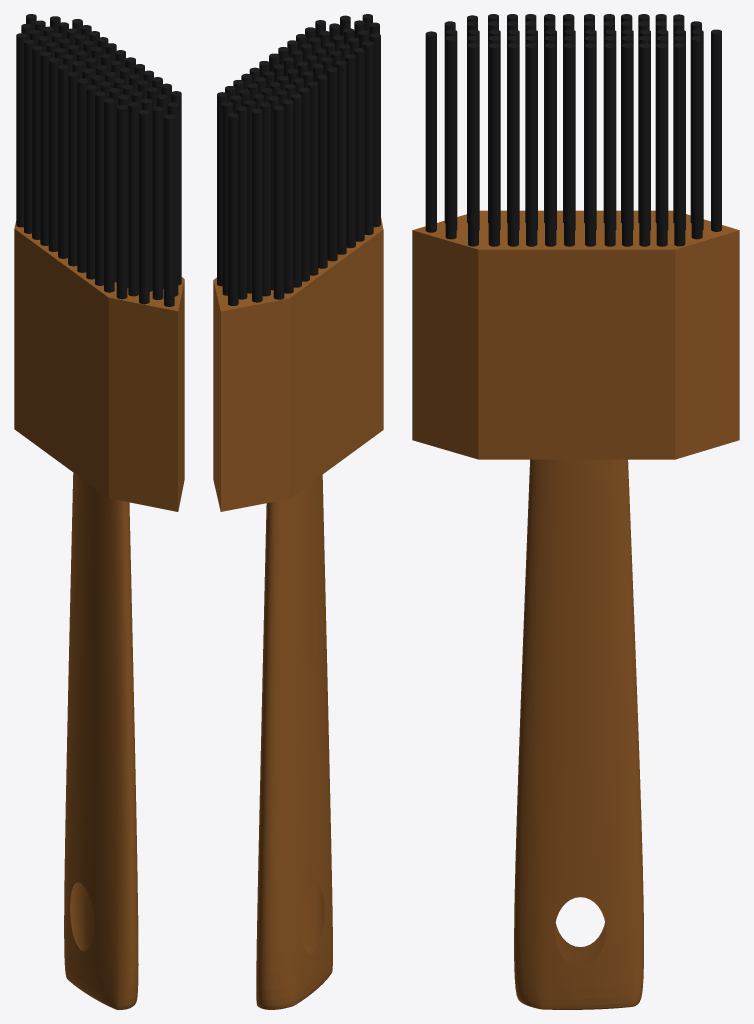
Rendered from Brush.fbx.
3 views of the same model, side by side, from view 1: azimuth 30°, elevation 25°; view 2: azimuth 150°, elevation 25°; view 3: azimuth 270°, elevation 25° (orthographic). The views are drawn at different scales.
Parts seen in each view (by area): view 1: Circle; view 2: Circle; view 3: Circle.
Part boxes in pixels (x1=…): Circle: x1=14, y1=14, x2=184, y2=1009; Circle: x1=213, y1=14, x2=383, y2=1009; Circle: x1=412, y1=14, x2=739, y2=1009.
Size of the model in its own units: 18.49 by 215 by 65.79.
